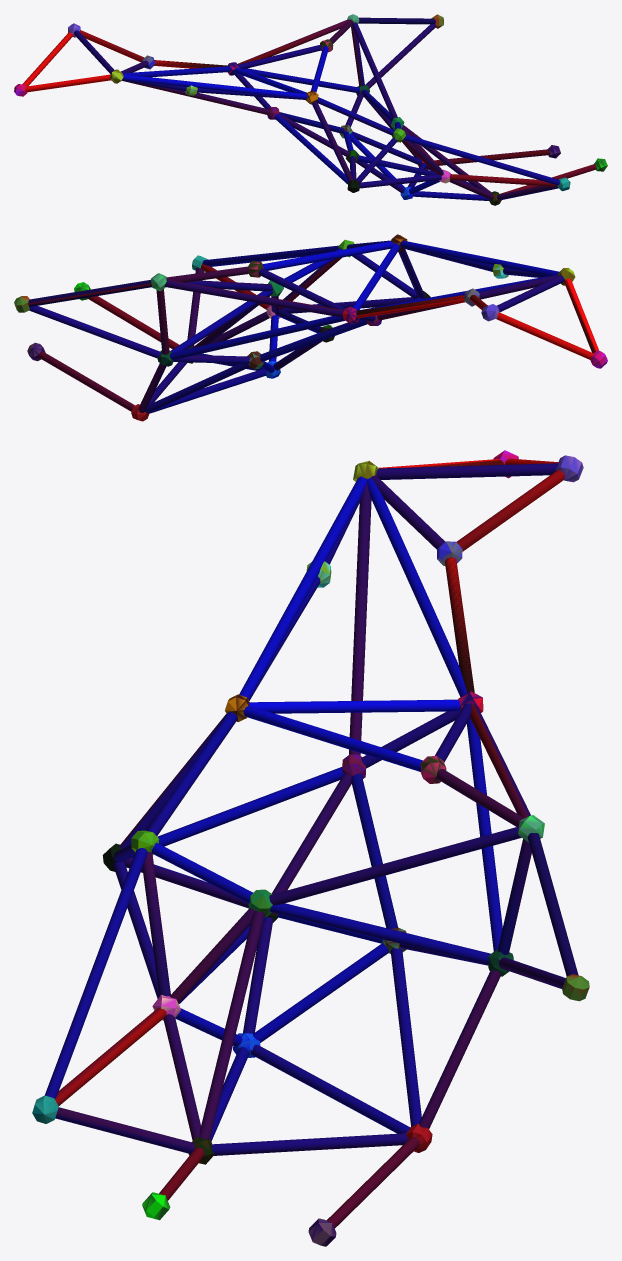
Rendered from hand_skel.glb.
The picture shows the model from 3 angles, top to bottom: view 1: azimuth 30°, elevation 25°; view 2: azimuth 150°, elevation 25°; view 3: azimuth 270°, elevation 25°; orthographic projection. The views are drawn at different scales.
Parts seen in each view (by area): view 1: fg-00010-skel; view 2: fg-00010-skel; view 3: fg-00010-skel.
Boxes of the visible parts, <box> form: fg-00010-skel: <box>14,14,607,205</box>; fg-00010-skel: <box>14,234,607,421</box>; fg-00010-skel: <box>32,450,589,1246</box>.
Size of the model in its own units: 0.3947 by 0.1458 by 0.189.
Materials: 1 (1 with a texture image).
